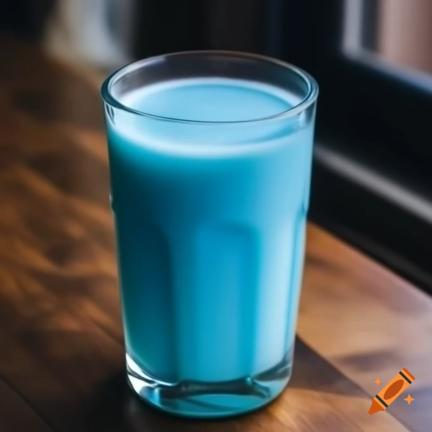container: (101, 51, 318, 418)
fluid: (106, 122, 312, 403)
fluid-surface: (107, 84, 307, 144)
